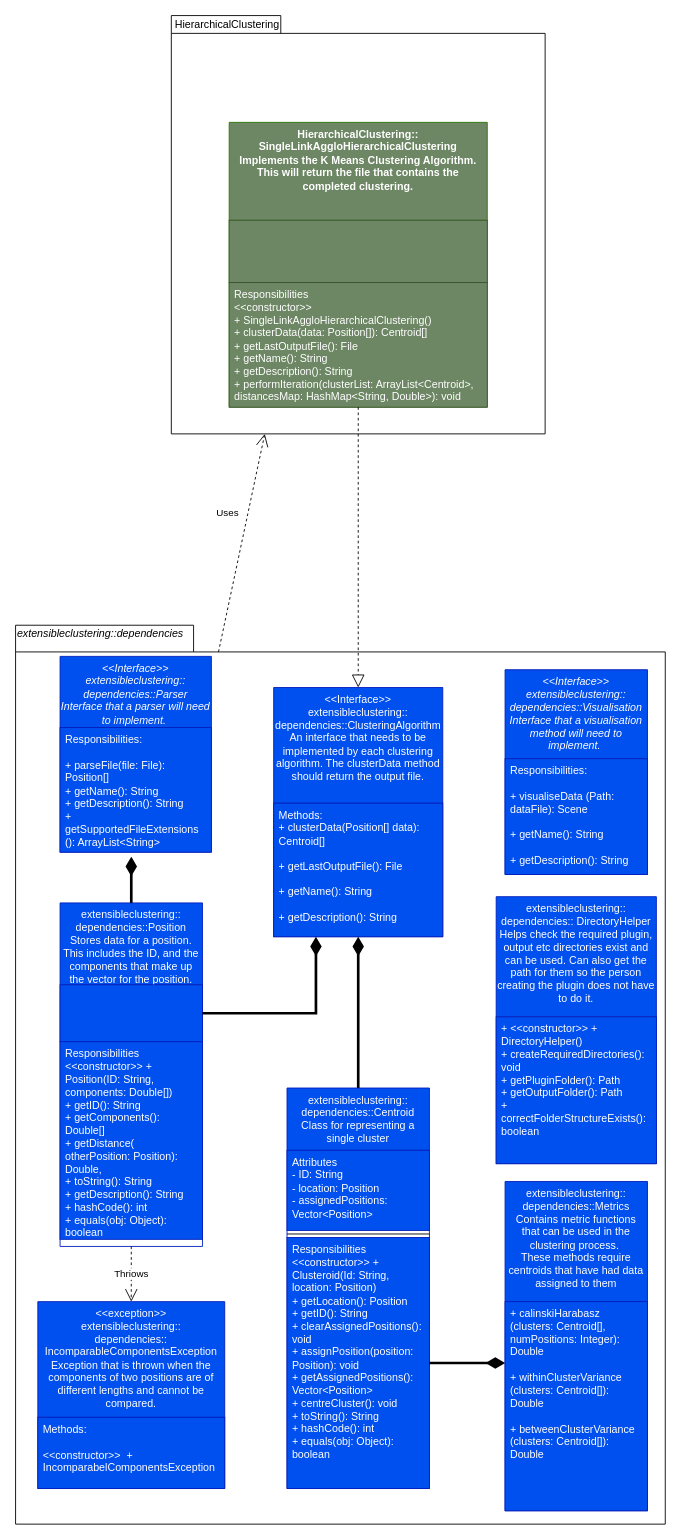
The diagram is 681 pixels wide and 1540 high, and some of its shapes have lost their labels. The centre of each missing label's shape, as x and y in pixels:
Attributes - ID: String - Components: Double[]: the point at 130,1013
Attributes - name: String - description: String - lastOutputFile: File: the point at 357,251
